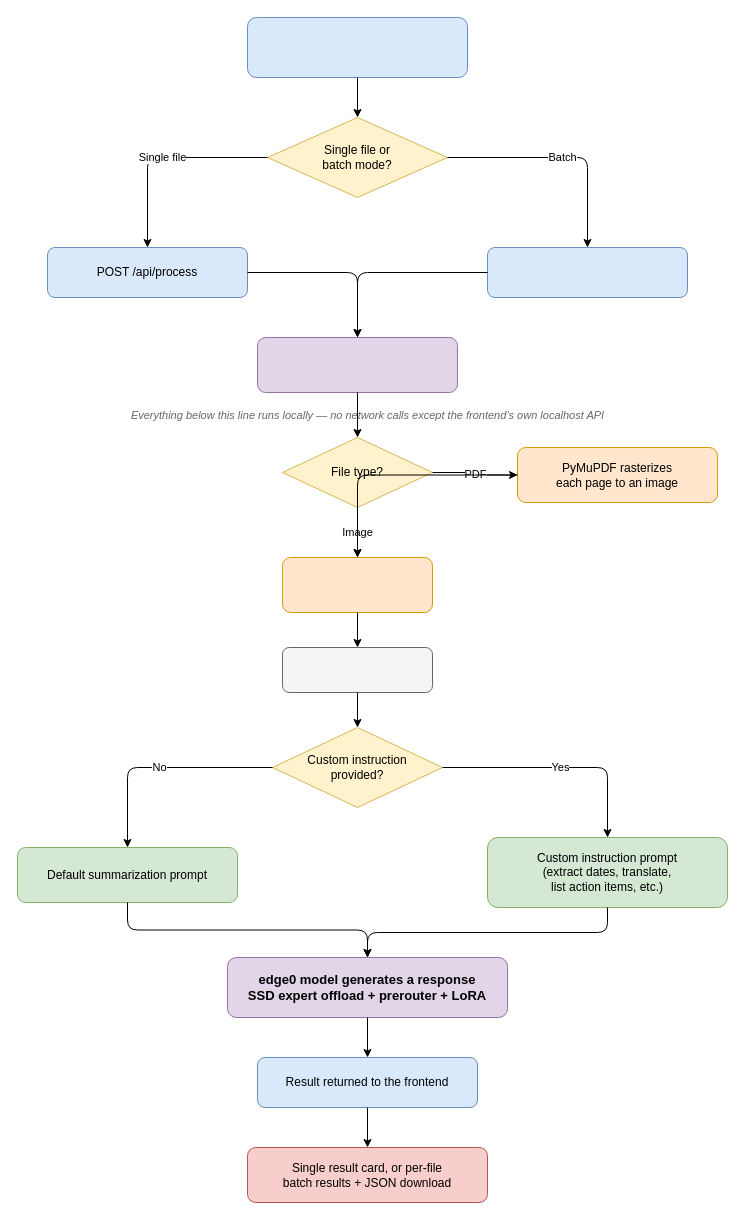
This 745x1220 diagram has some shape labels left out. The centre of each missing label's shape, as x and y in pixels:
EasyOCR reads text from the image: point (357, 584)
FastAPI backend: point (357, 364)
POST /api/batch one file at a time: point (587, 272)
Raw extracted text: point (357, 669)
User uploads image or PDF in the React frontend: point (357, 47)
